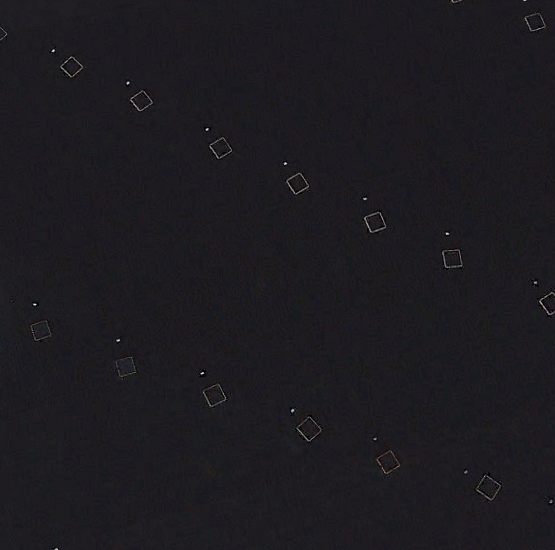square: (283, 407, 326, 446), (433, 237, 470, 278), (470, 465, 507, 505), (194, 377, 234, 413), (22, 313, 59, 350), (200, 130, 236, 166), (105, 346, 142, 381), (370, 445, 407, 480), (352, 202, 386, 236), (127, 85, 159, 116), (283, 167, 313, 198), (520, 9, 549, 35), (61, 53, 86, 82)
